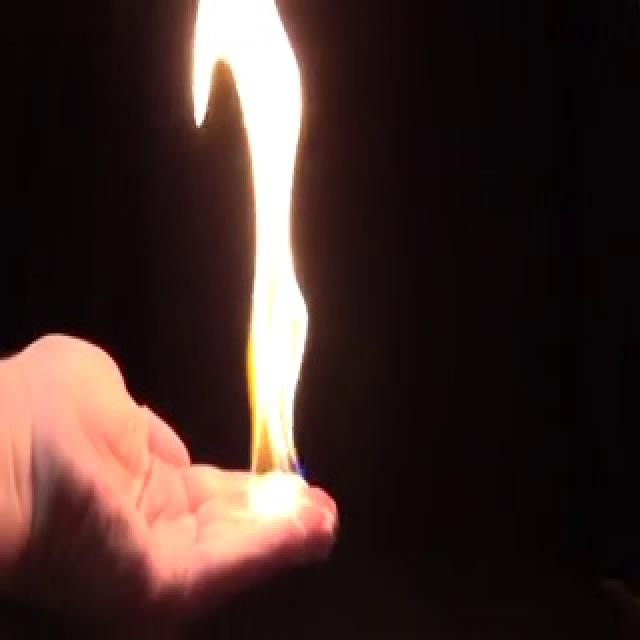fire: (185, 0, 329, 517)
